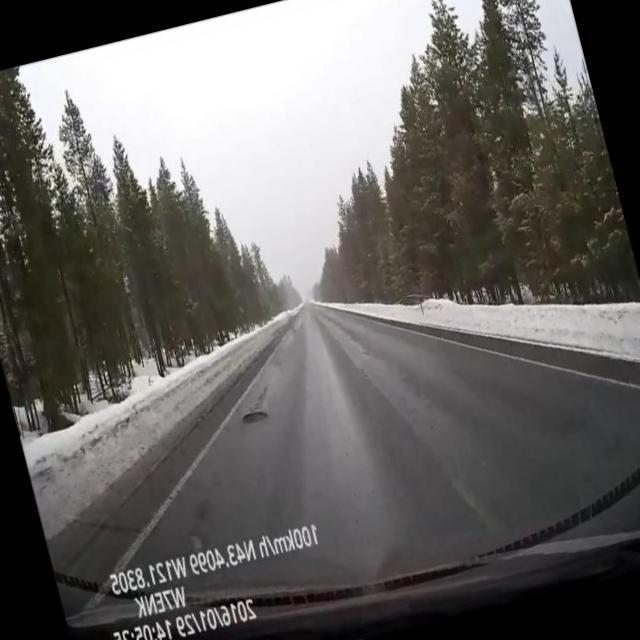Pothole: (241, 409, 268, 425)
